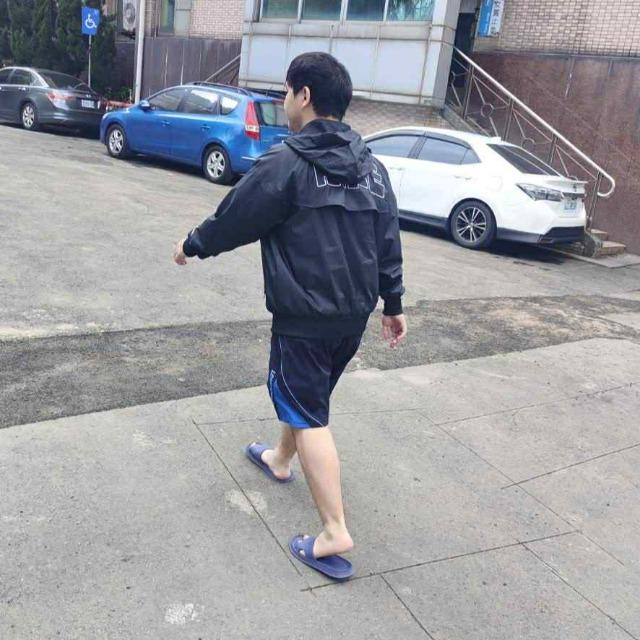NoHelmet: (279, 47, 357, 128)
NoVest: (258, 135, 403, 316)
